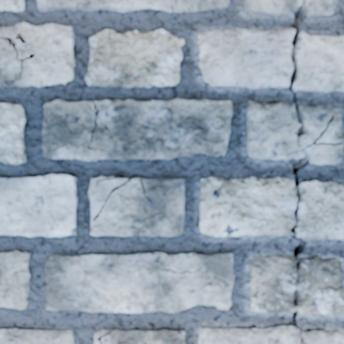brick: (42, 98, 232, 160), (45, 252, 233, 312), (86, 29, 183, 87), (91, 179, 183, 235), (0, 23, 73, 87), (0, 175, 76, 236), (37, 0, 228, 11), (0, 251, 29, 308), (0, 104, 25, 163), (89, 179, 121, 219), (102, 329, 185, 343), (0, 328, 73, 343), (0, 0, 23, 10), (94, 329, 110, 343)
broken_brick: (196, 26, 293, 89), (199, 176, 295, 237), (245, 100, 302, 160), (293, 31, 343, 92), (296, 179, 343, 241), (249, 254, 296, 314), (298, 255, 343, 316), (198, 325, 300, 343), (300, 104, 343, 146), (242, 0, 300, 15), (308, 145, 343, 165), (300, 328, 343, 343), (306, 0, 337, 16)
crack: (260, 0, 343, 343), (92, 176, 132, 222), (87, 100, 113, 149), (139, 178, 153, 204), (96, 328, 115, 343)
